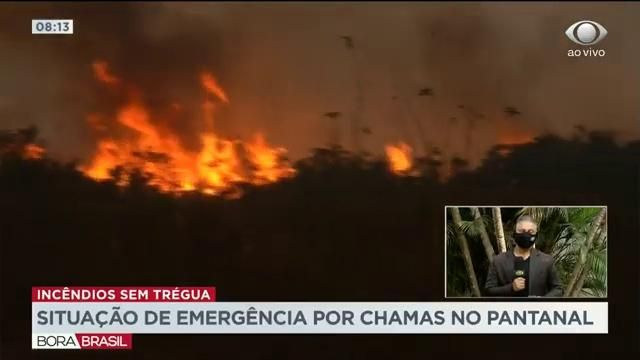fire: (106, 129, 290, 195), (115, 74, 157, 127), (383, 138, 413, 177)
smoke: (161, 46, 203, 104)
